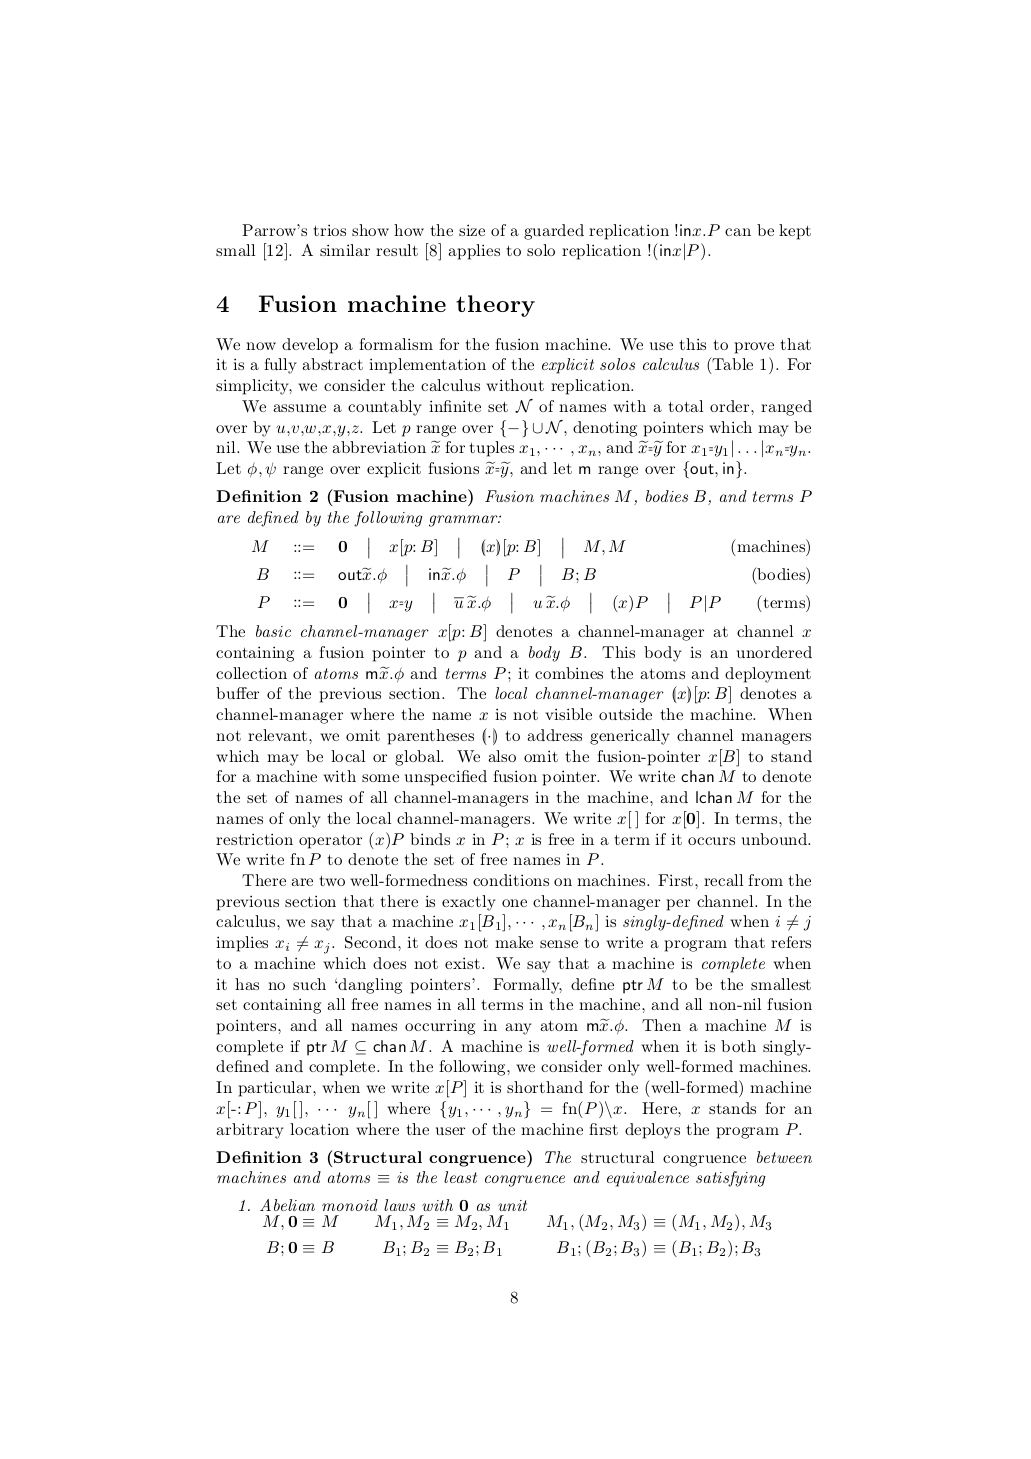formula: (256, 563, 809, 587), (251, 537, 809, 559), (257, 591, 809, 613), (262, 1212, 771, 1231), (266, 1239, 760, 1258)
